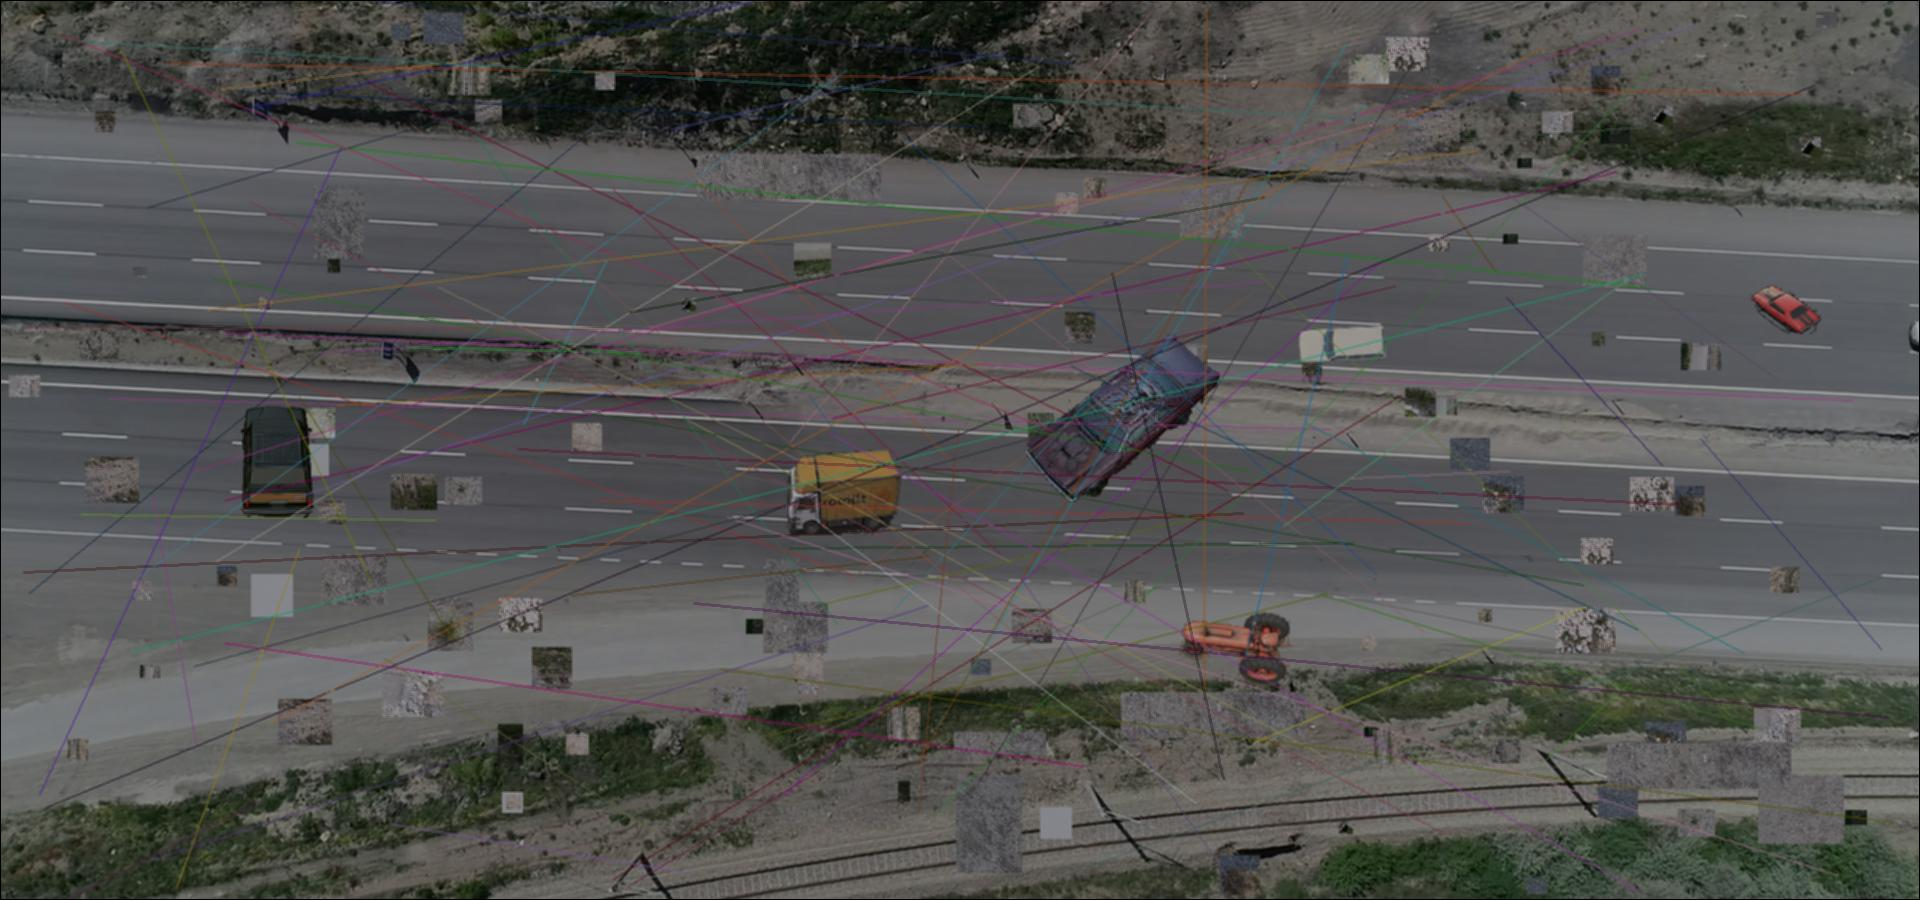arac: (1026, 329, 1222, 502), (782, 451, 901, 535), (235, 407, 316, 518), (1179, 610, 1296, 684), (1750, 283, 1822, 334), (1297, 324, 1389, 364)
